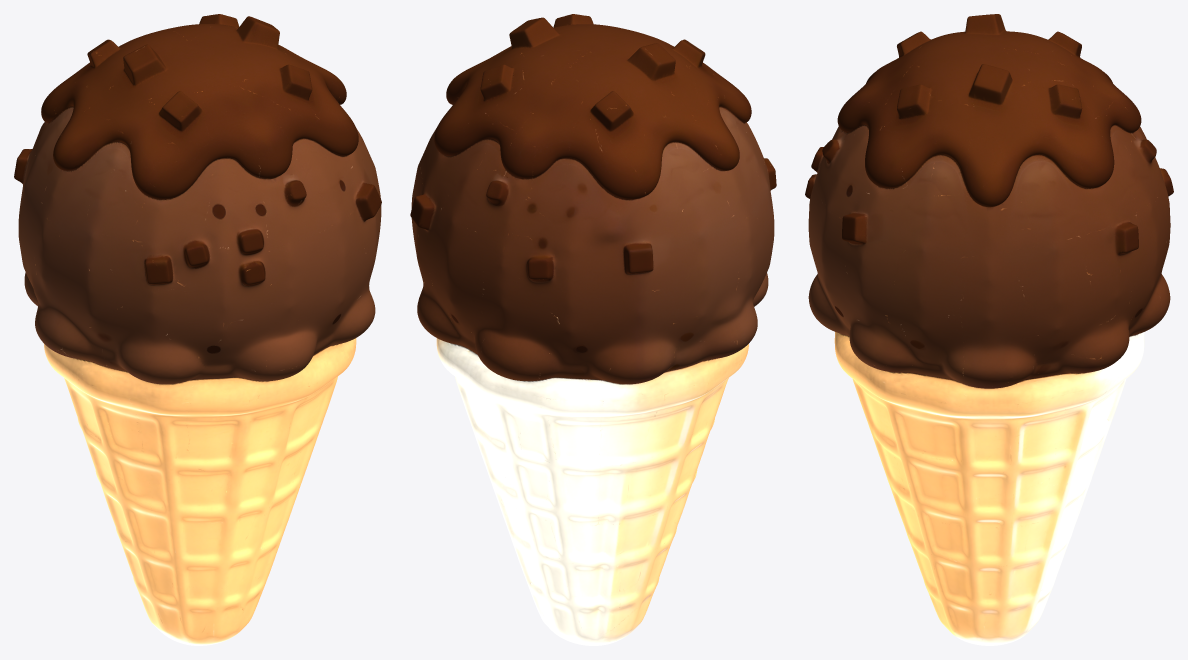
File: Meshy_AI_Chocolate_Chip_Ice_Cr_0520111229_texture.fbx
3 views of the same model, side by side, from view 1: azimuth 30°, elevation 25°; view 2: azimuth 150°, elevation 25°; view 3: azimuth 270°, elevation 25° (orthographic).
Parts seen in each view (by area): view 1: Mesh_0; view 2: Mesh_0; view 3: Mesh_0.
Part boxes in pixels (<box>): Mesh_0: <box>14,14,381,645</box>; Mesh_0: <box>410,14,776,645</box>; Mesh_0: <box>805,14,1173,645</box>.
Bounding box in the file's own units: 104 × 190 × 106.
1 material, 1 textured.
